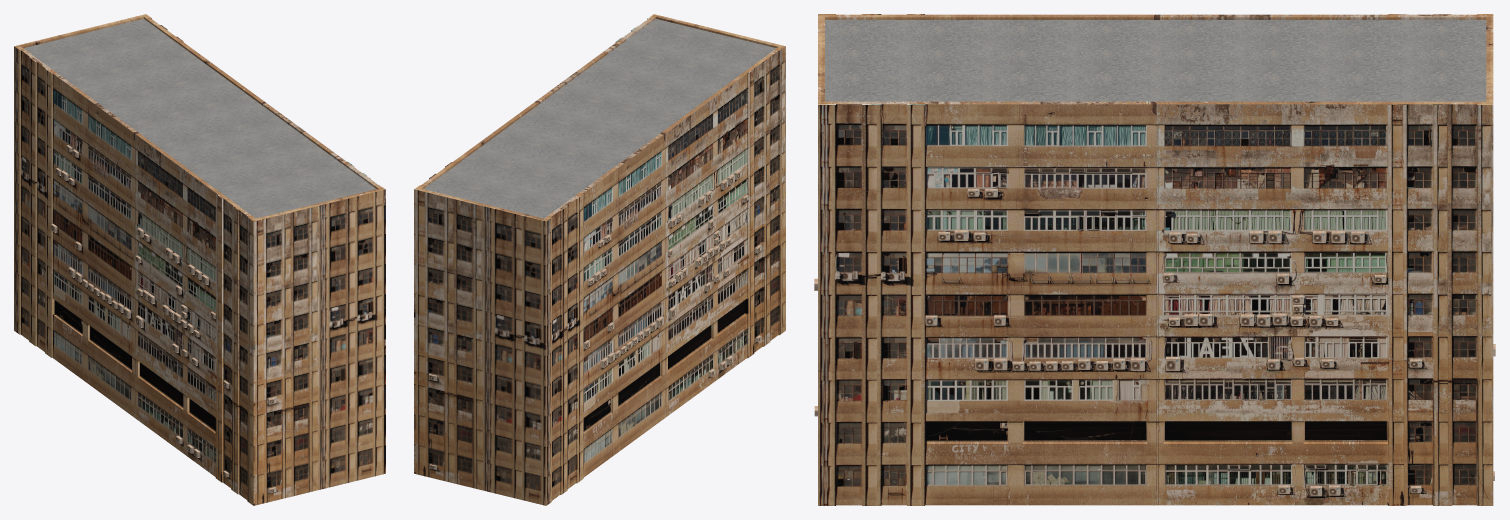
File: building.glb
3 views of the same model, side by side, from view 1: azimuth 30°, elevation 25°; view 2: azimuth 150°, elevation 25°; view 3: azimuth 270°, elevation 25° (orthographic). The views are drawn at different scales.
Parts seen in each view (by area): view 1: Building; view 2: Building; view 3: Building.
Part boxes in pixels (<box>): Building: <box>14,14,385,505</box>; Building: <box>414,14,785,505</box>; Building: <box>814,14,1495,505</box>.
Bounding box in the file's own units: 550 × 1098 × 1692.
Materials: 2 (2 with a texture image).
